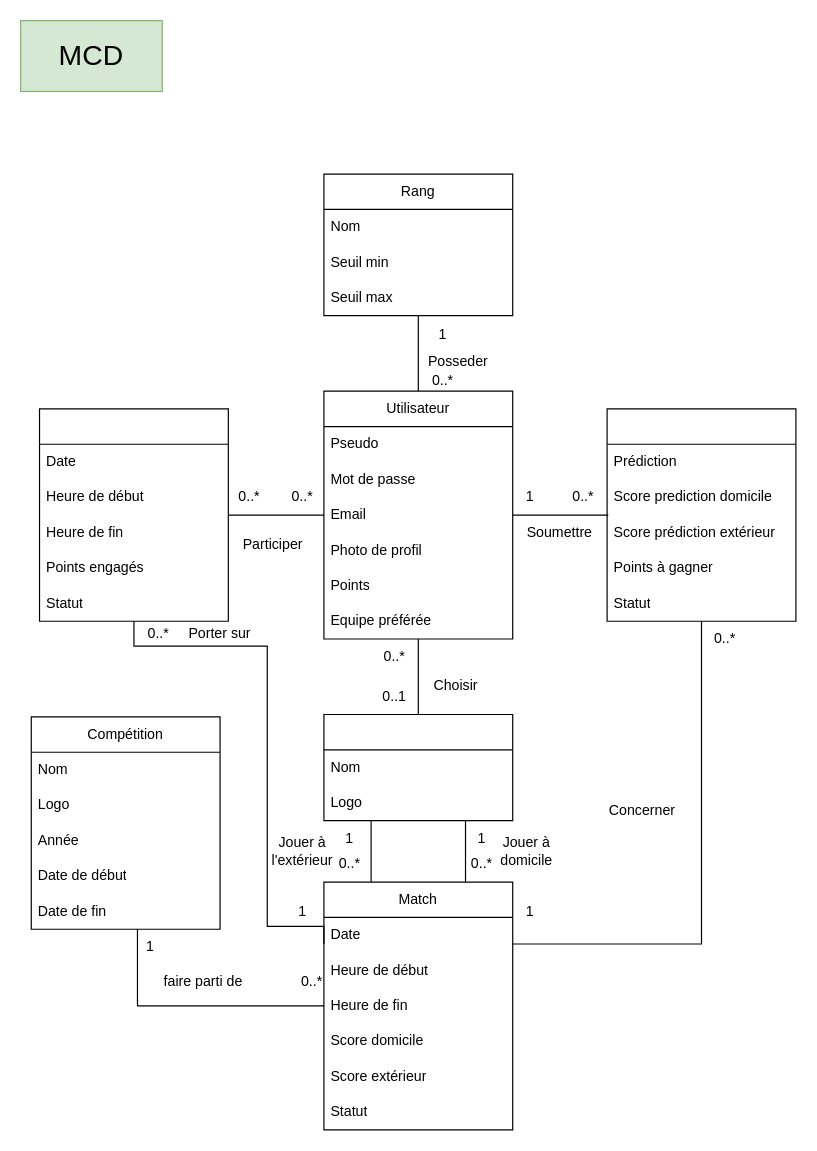
Image size: 817x1151. Some labels were removed from this diagram. Here are the shapes that lost their labels. From the top down, the box of each, then its label:
(38, 408, 228, 621): Battle
(606, 408, 796, 621): Pronostic
(323, 713, 513, 821): Equipes
